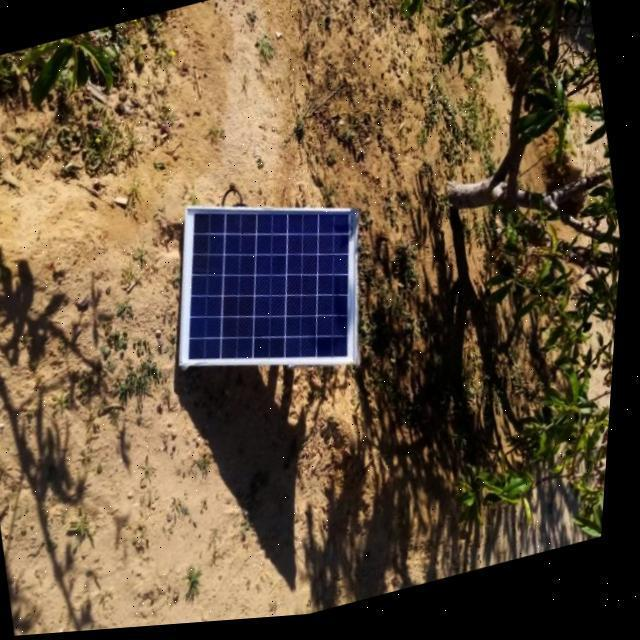Normal Solar Panel: (152, 164, 390, 414)
